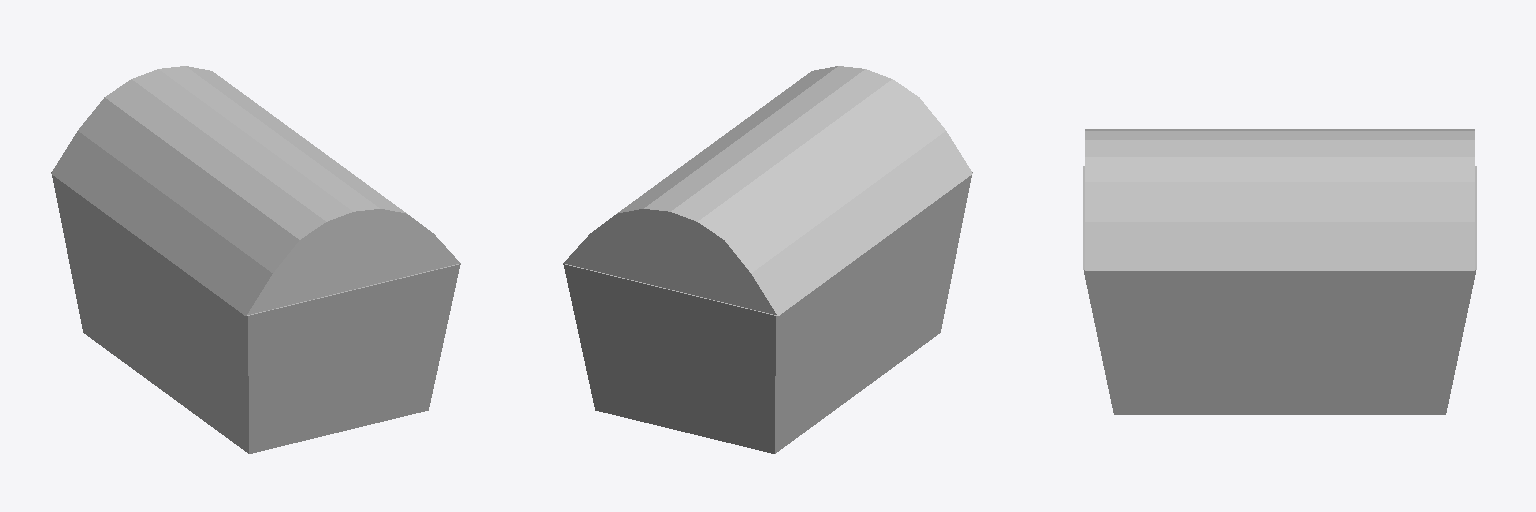
File: chestlxclosed.obj
3 renders of one model, left to right at view 1: azimuth 30°, elevation 25°; view 2: azimuth 150°, elevation 25°; view 3: azimuth 270°, elevation 25°, orthographic.
Visible parts, largest first — view 1: Plane_003, Cube_003_Cube_001; view 2: Plane_003, Cube_003_Cube_001; view 3: Plane_003, Cube_003_Cube_001.
Part boxes in pixels (x1,y1,x2,y2): Plane_003: (51, 66, 460, 315); Cube_003_Cube_001: (51, 172, 460, 453); Plane_003: (563, 66, 972, 315); Cube_003_Cube_001: (563, 172, 972, 453); Plane_003: (1085, 129, 1474, 270); Cube_003_Cube_001: (1083, 166, 1476, 414).
Size of the model in its own units: 2.36 by 2.43 by 3.74.